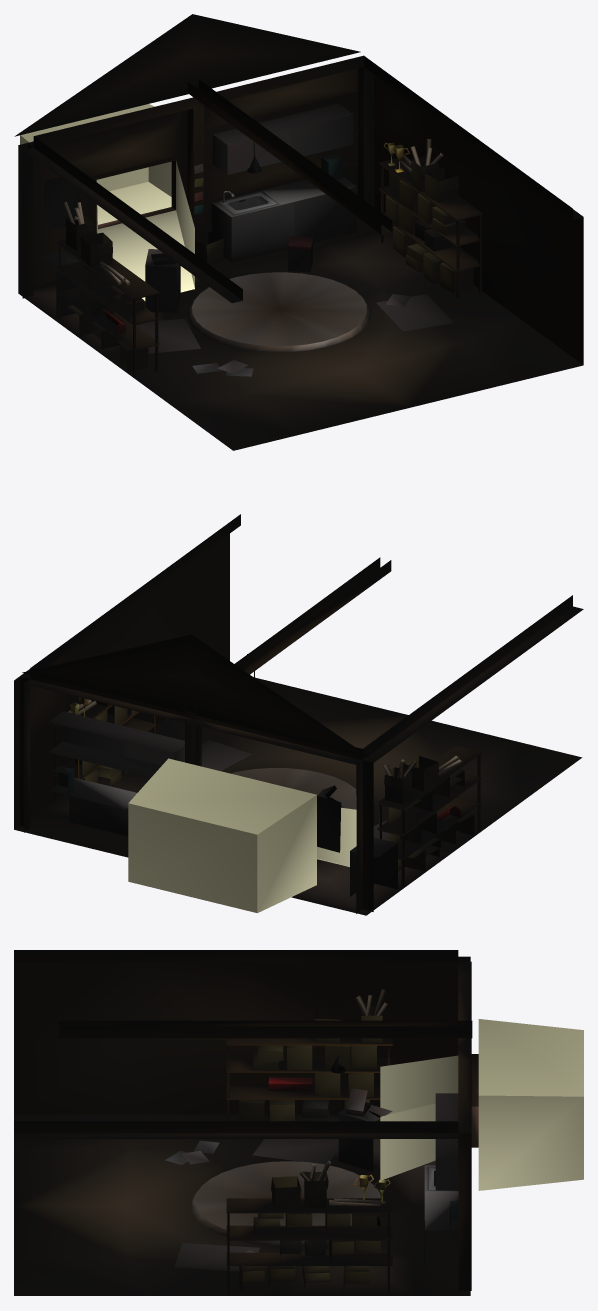
File: CustomRoom_01.fbx
3 views of the same model, one above another, from view 1: azimuth 30°, elevation 25°; view 2: azimuth 150°, elevation 25°; view 3: azimuth 270°, elevation 25° (orthographic). The views are drawn at different scales.
Visible parts, largest first — view 1: Room, Base; view 2: Room, Base; view 3: Room, Base.
Boxes of the visible parts, box(x1,y1,x2,y2) form: Room: box(14, 14, 583, 450); Base: box(188, 272, 370, 352); Room: box(14, 514, 583, 915); Base: box(231, 768, 356, 809); Room: box(14, 950, 583, 1295); Base: box(190, 1161, 383, 1245).
Bounding box in the file's own units: 824 × 526 × 1077.
